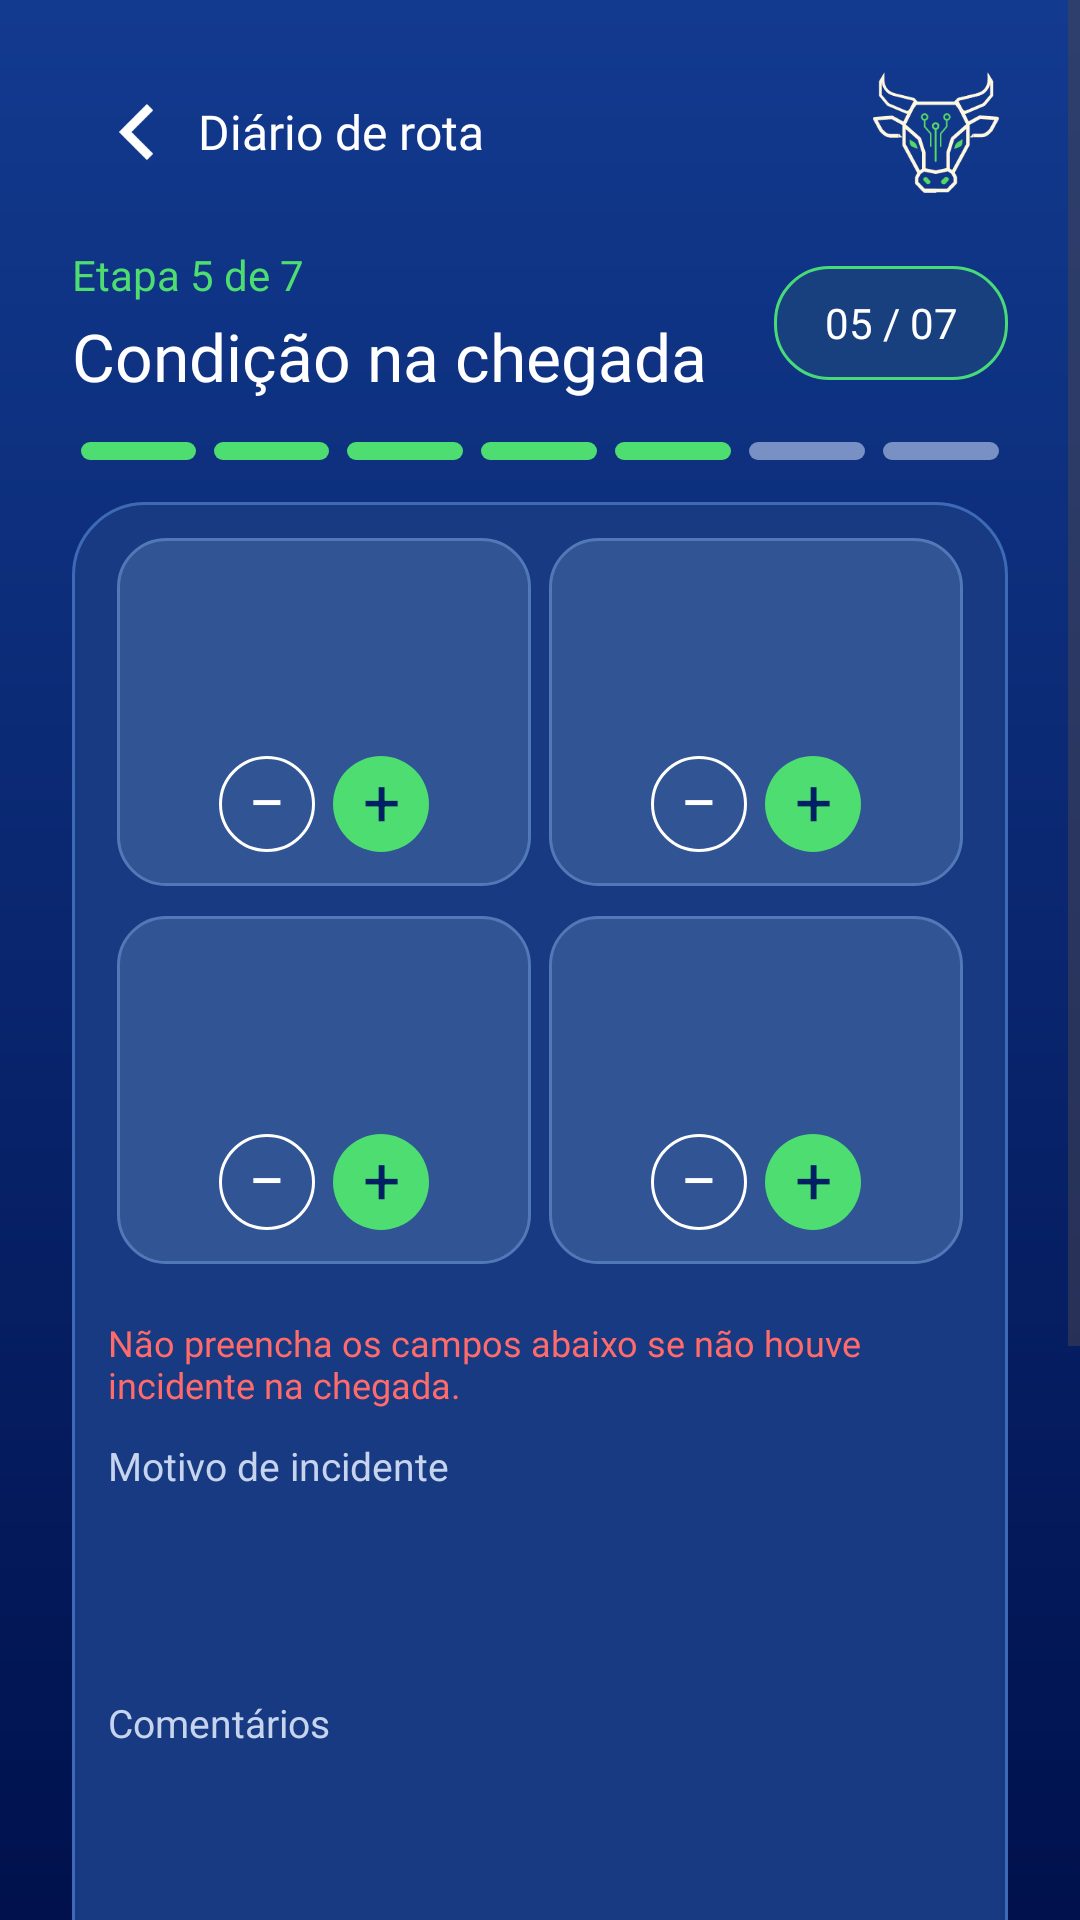

Screen size 1080x1920. Icon name, then its box in pixels as bbox(x1, y1, x2, y2):
Voltar: bbox(119, 104, 153, 160)
